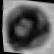correct: (0, 4, 54, 53)
